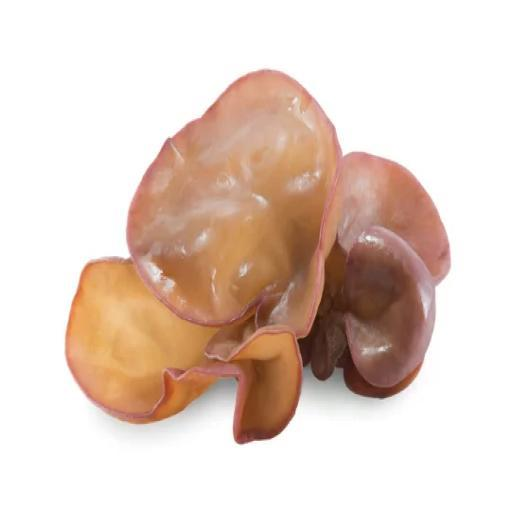mushroom: (125, 65, 333, 334), (52, 248, 243, 434), (324, 146, 456, 409), (210, 312, 305, 447)
